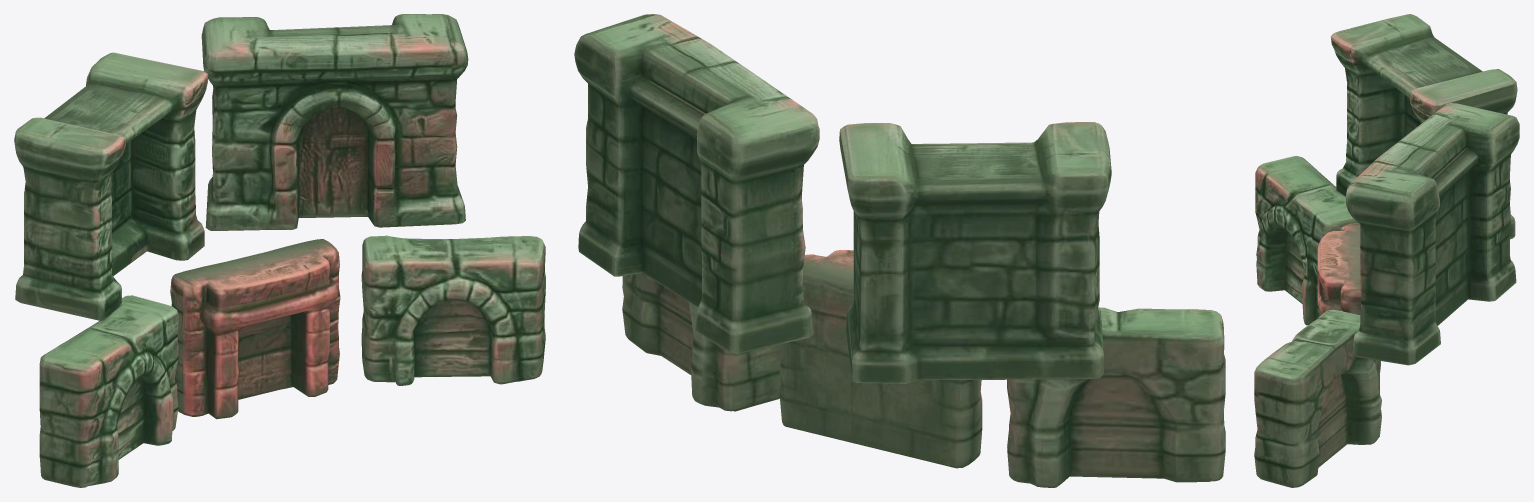
Rendered from fireplace_stone.glb.
3 renders of one model, left to right at view 1: azimuth 30°, elevation 25°; view 2: azimuth 150°, elevation 25°; view 3: azimuth 270°, elevation 25°, orthographic. The views are drawn at different scales.
Bounding box in the file's own units: 1.91 × 1.11 × 0.9511.
1 material, 1 textured.
